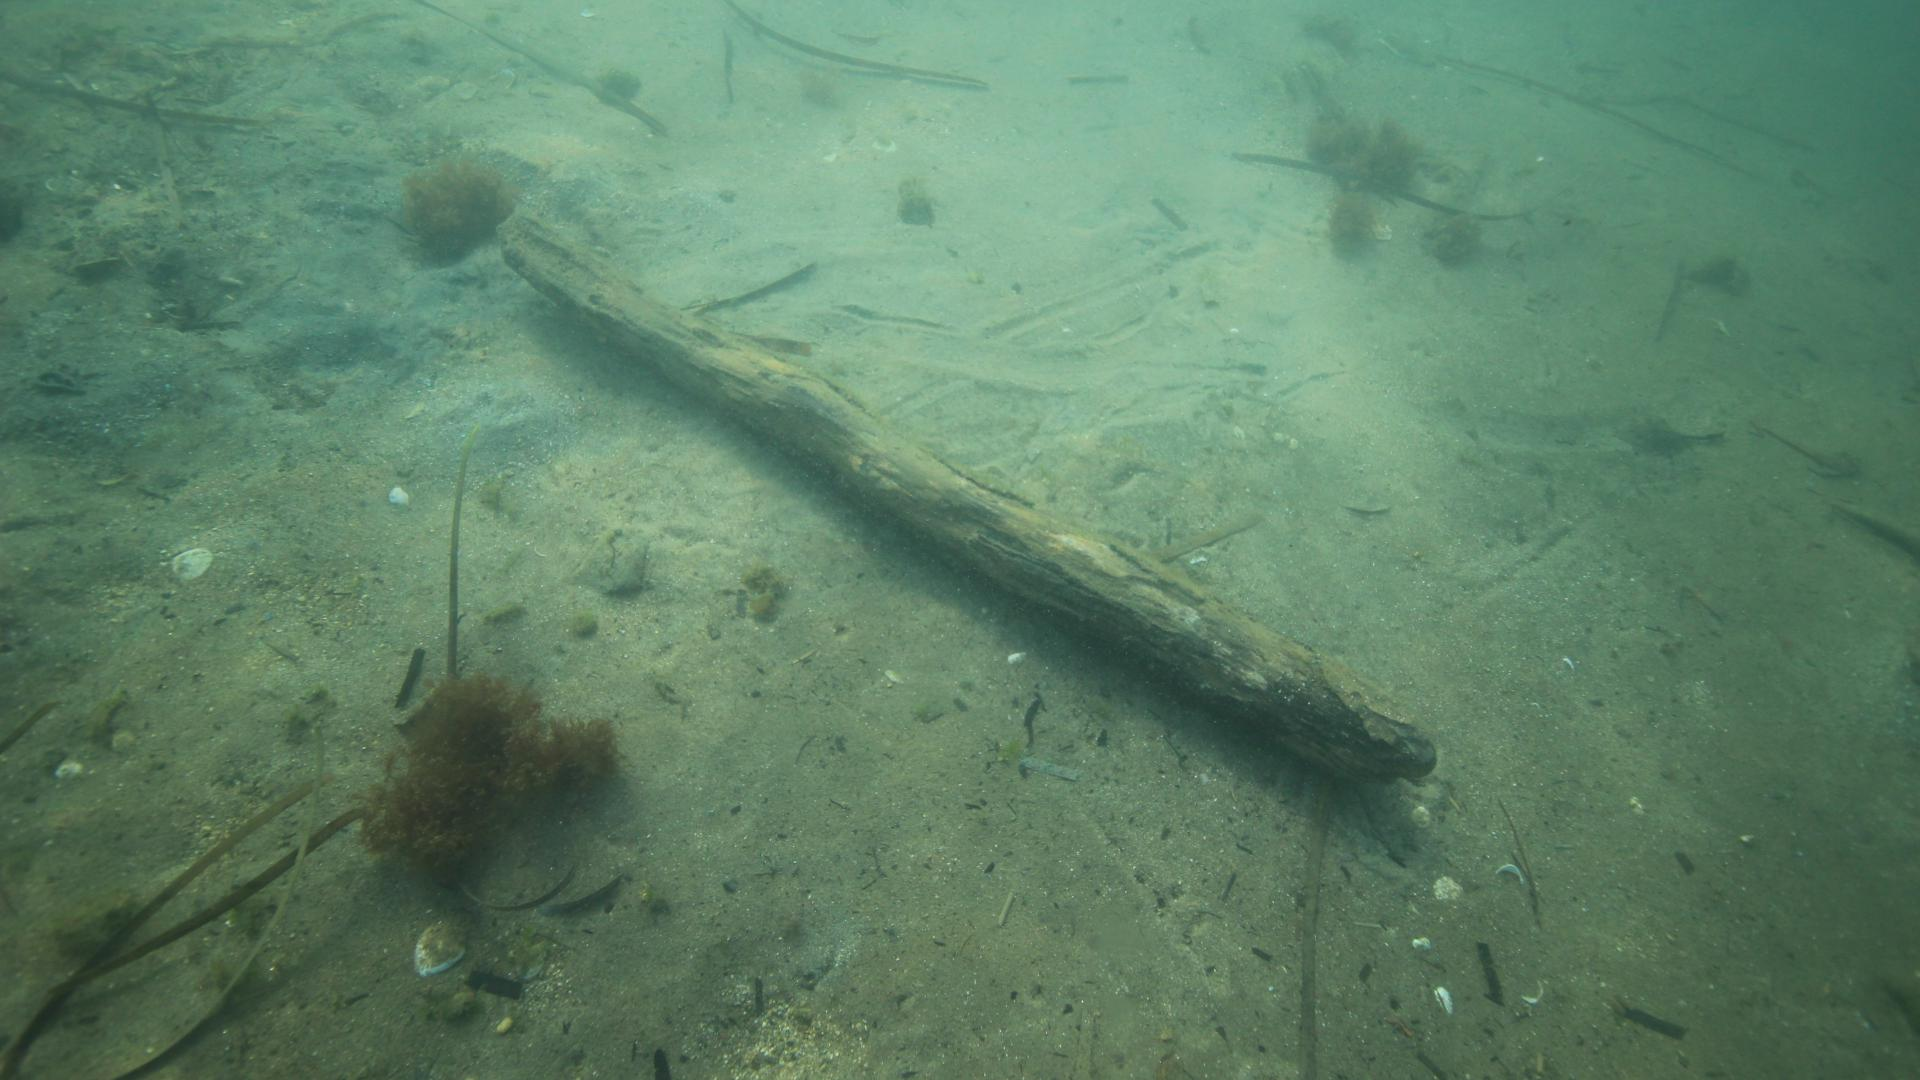wood: (493, 207, 1437, 785)
